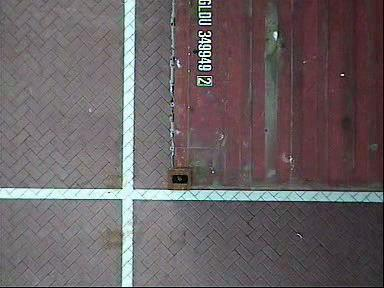groundmarker_2: (1, 95, 88, 158)
